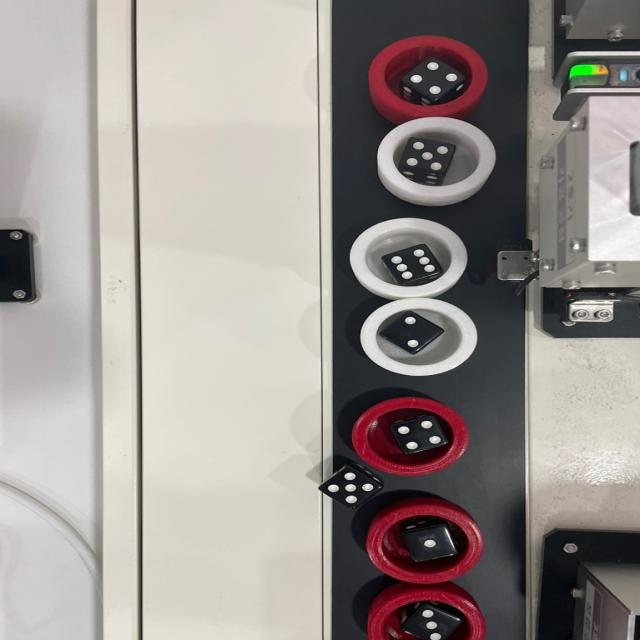DICE1: (419, 533, 442, 554)
DICE2: (396, 314, 426, 350)
DICE3: (420, 608, 449, 640)
DICE4: (408, 61, 457, 96), (397, 420, 442, 451)
DICE5: (324, 468, 375, 504), (402, 142, 450, 170)
DICE6: (389, 249, 437, 280)
RedChip: (367, 34, 488, 116), (351, 398, 472, 474), (366, 506, 483, 584), (366, 591, 486, 640)
WhiteChip: (349, 217, 472, 298), (376, 118, 496, 198), (361, 298, 481, 376)
